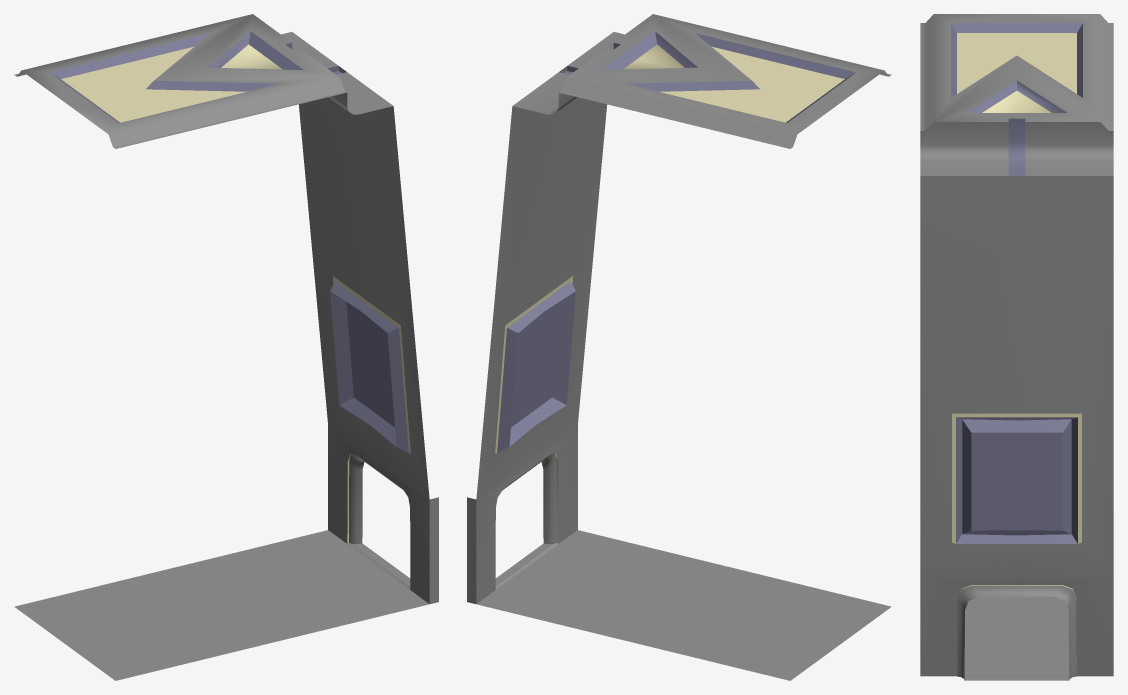
The model's file is hangarEntrance.fbx.
3 renders of one model, left to right at view 1: azimuth 30°, elevation 25°; view 2: azimuth 150°, elevation 25°; view 3: azimuth 270°, elevation 25°, orthographic. The views are drawn at different scales.
Parts seen in each view (by area): view 1: Cube.005; view 2: Cube.005; view 3: Cube.005.
Part boxes in pixels (bbox=[...]): Cube.005: bbox=[14, 14, 438, 680]; Cube.005: bbox=[467, 14, 891, 680]; Cube.005: bbox=[920, 14, 1113, 680].
Bounding box in the file's own units: 754 × 1200 × 408.
